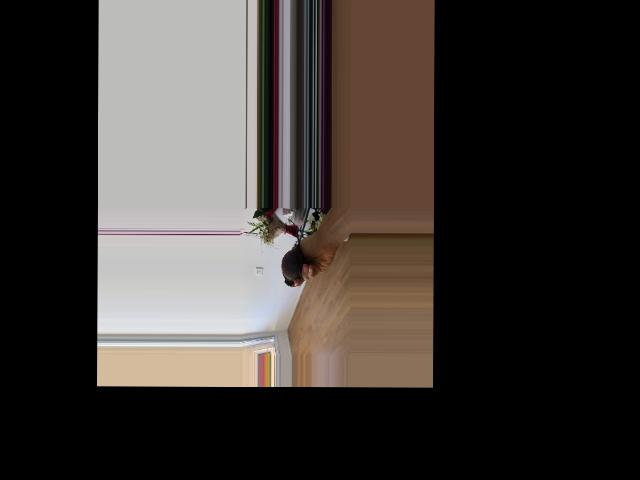beet: (281, 220, 305, 287)
